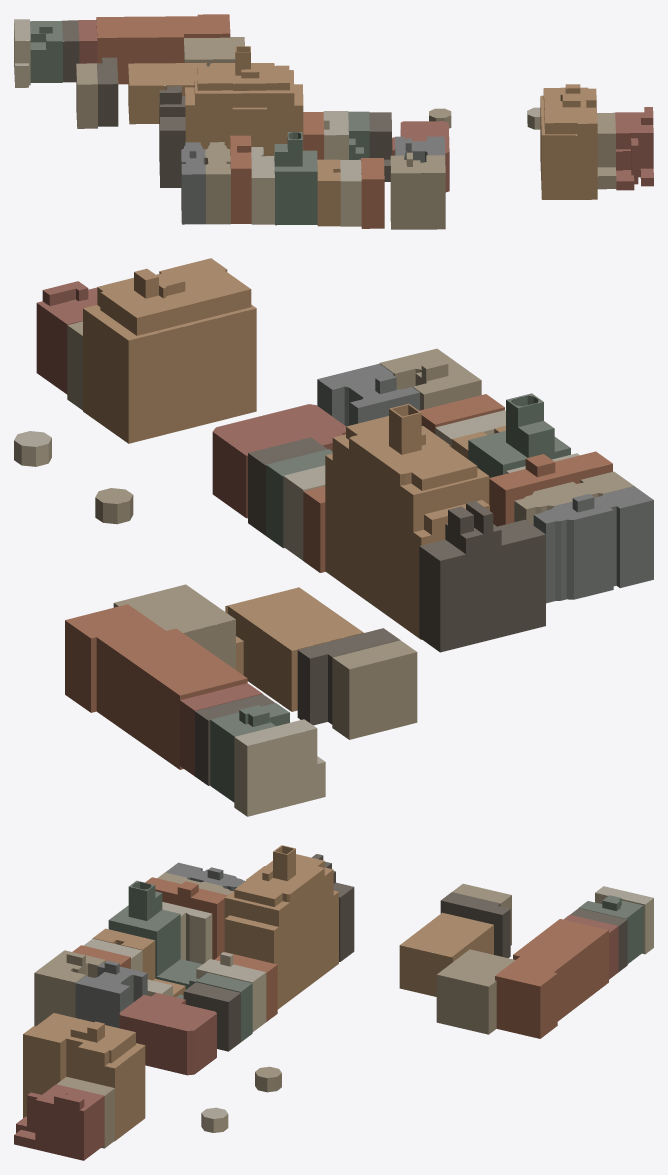
Rendered from tile-5_-2.glb.
3 views of the same model, one above another, from view 1: azimuth 30°, elevation 25°; view 2: azimuth 150°, elevation 25°; view 3: azimuth 270°, elevation 25° (orthographic). The views are drawn at different scales.
Visible parts, largest first — view 1: wall, roof; view 2: wall, roof; view 3: wall, roof.
Boxes of the visible parts, left/top/right/bottom form: wall: left=14, top=18, right=653, bottom=229; roof: left=14, top=14, right=653, bottom=181; wall: left=14, top=269, right=653, bottom=816; roof: left=14, top=258, right=653, bottom=763; wall: left=14, top=846, right=653, bottom=1160; roof: left=14, top=845, right=653, bottom=1139.
Bounding box in the file's own units: 179 × 49.09 × 205.
